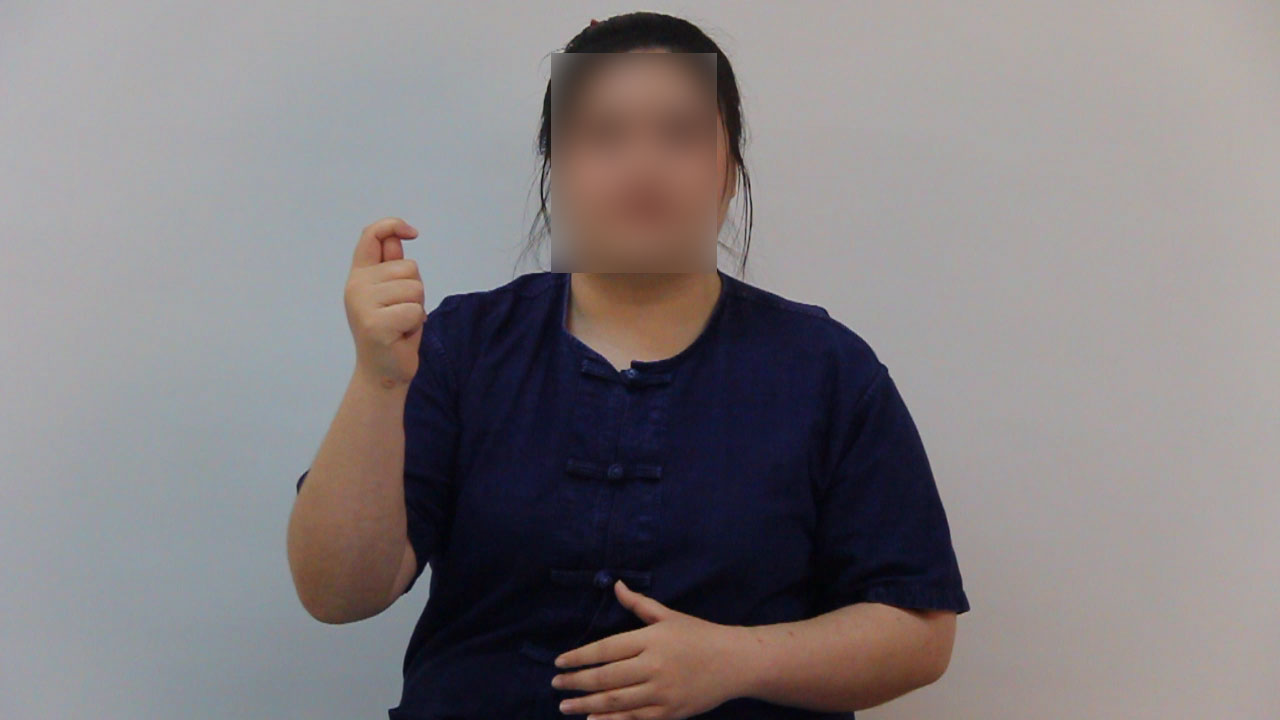or: (337, 213, 438, 410)
